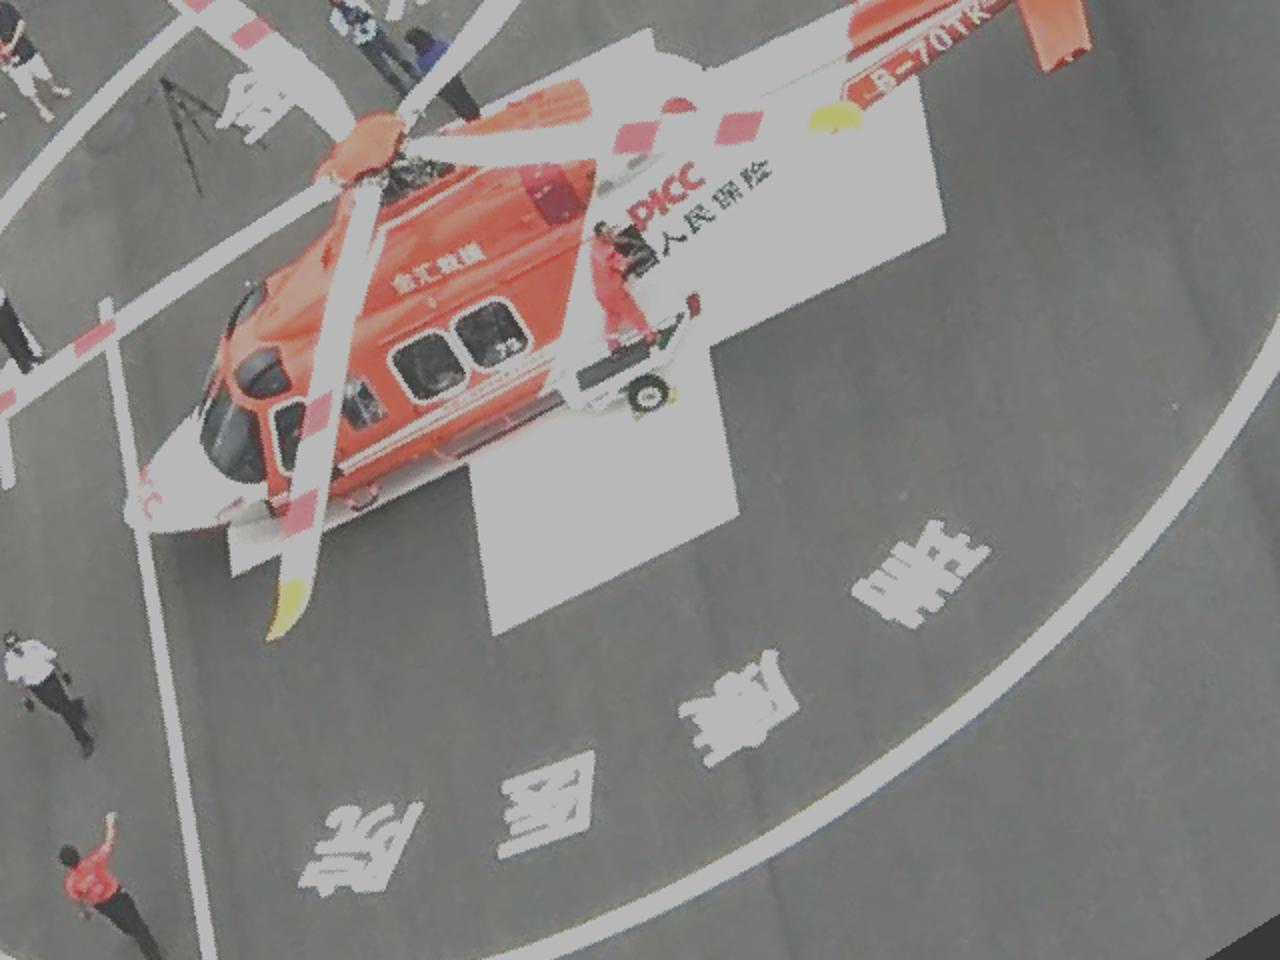Apron: (2, 4, 1280, 957)
